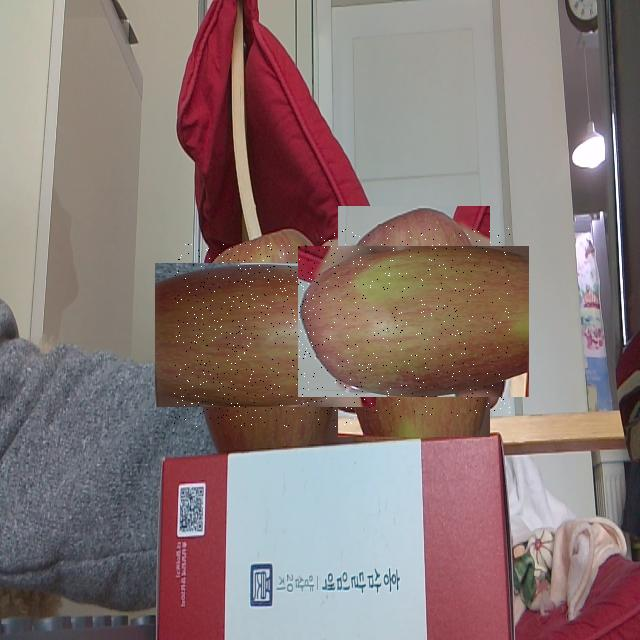apple: (318, 226, 510, 417), (174, 243, 357, 427)
